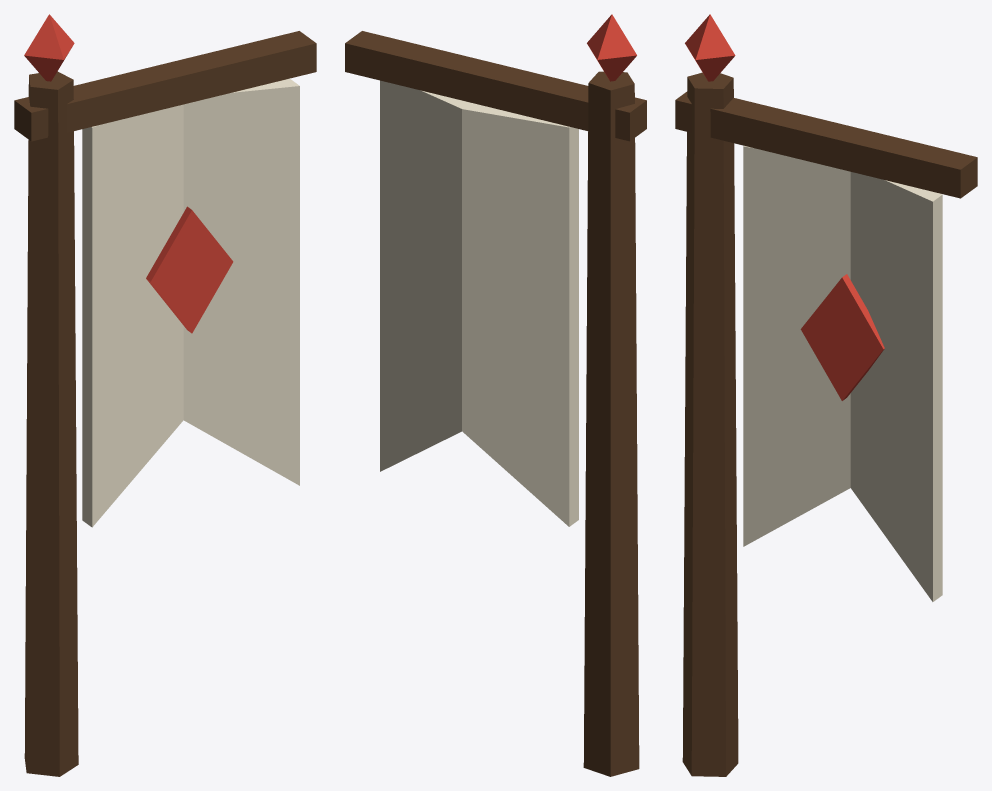
Rendered from deco_banner.glb.
3 views of the same model, side by side, from view 1: azimuth 30°, elevation 25°; view 2: azimuth 150°, elevation 25°; view 3: azimuth 330°, elevation 25° (orthographic).
Visible parts, largest first — view 1: deco_banner_mesh; view 2: deco_banner_mesh; view 3: deco_banner_mesh.
Part boxes in pixels (left/top/right/bottom): deco_banner_mesh: left=14, top=14, right=316, bottom=776; deco_banner_mesh: left=345, top=14, right=646, bottom=776; deco_banner_mesh: left=675, top=14, right=977, bottom=776.
Size of the model in its own units: 0.135 by 0.34 by 0.024.
